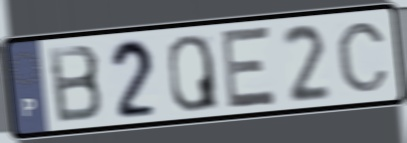2: (107, 32, 165, 125), (279, 21, 334, 105)
B: (45, 42, 106, 126)
C: (334, 19, 392, 95)
E: (220, 23, 279, 112)
Q: (166, 32, 221, 115)
